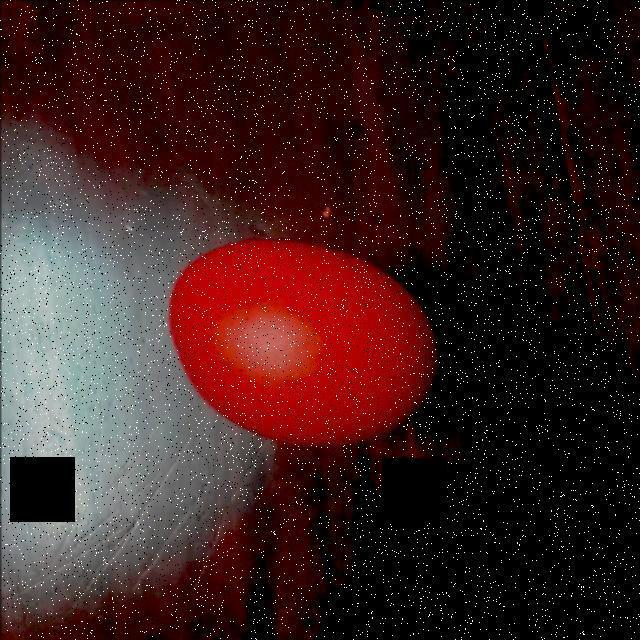egg: (165, 228, 442, 446)
